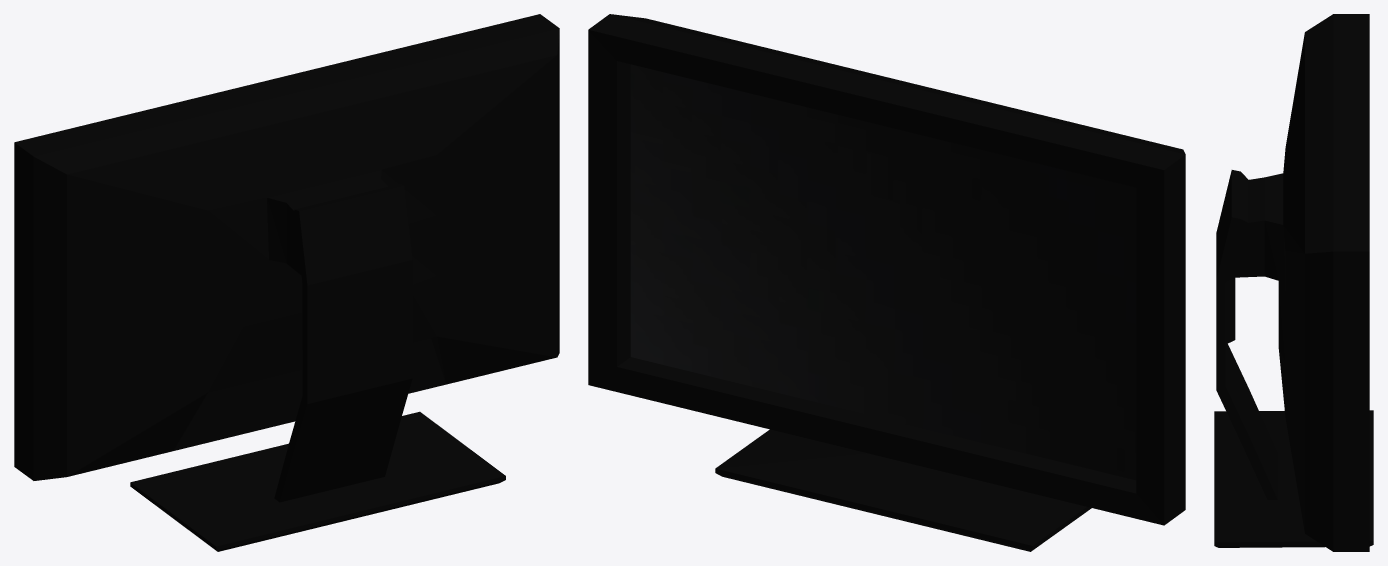
File: television.fbx
3 renders of one model, left to right at view 1: azimuth 30°, elevation 25°; view 2: azimuth 150°, elevation 25°; view 3: azimuth 270°, elevation 25°, orthographic. The views are drawn at different scales.
Visible parts, largest first — view 1: pCube1; view 2: pCube1; view 3: pCube1.
Part boxes in pixels (x1,y1,x2,y2): pCube1: (14, 14, 559, 551); pCube1: (588, 14, 1185, 551); pCube1: (1214, 14, 1373, 551).
Bounding box in the file's own units: 16.77 × 11.57 × 4.75.
